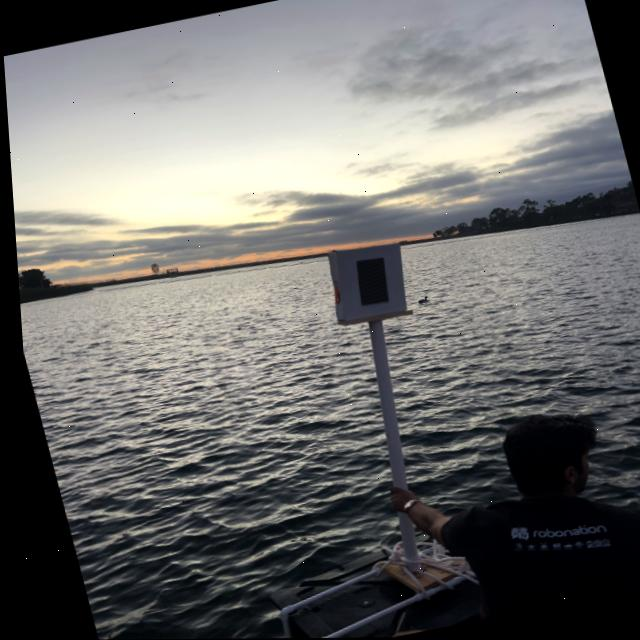led: (336, 244, 407, 319)
